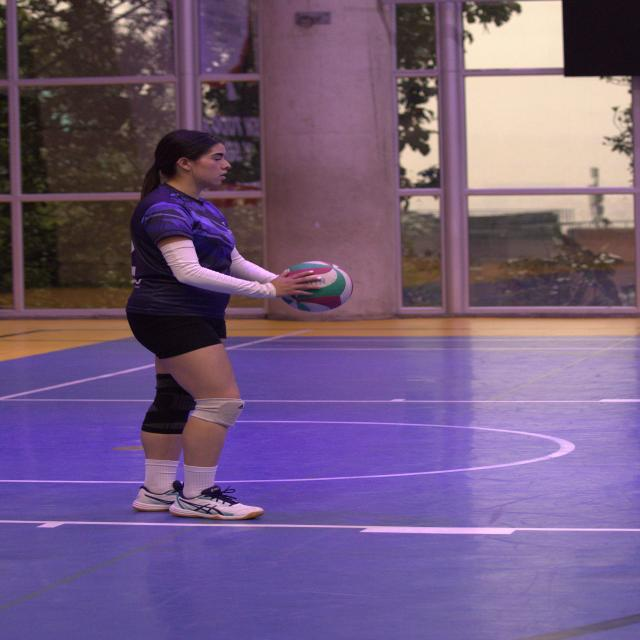volleyball: (274, 261, 354, 313)
